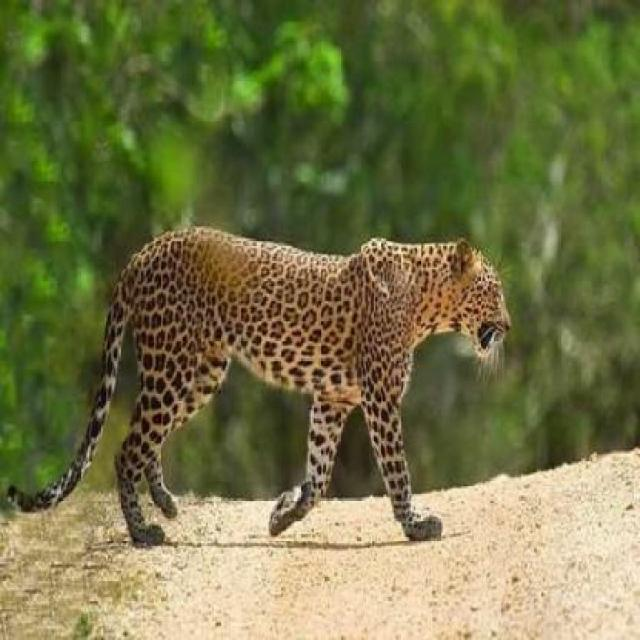Leopard: (4, 173, 536, 593)
